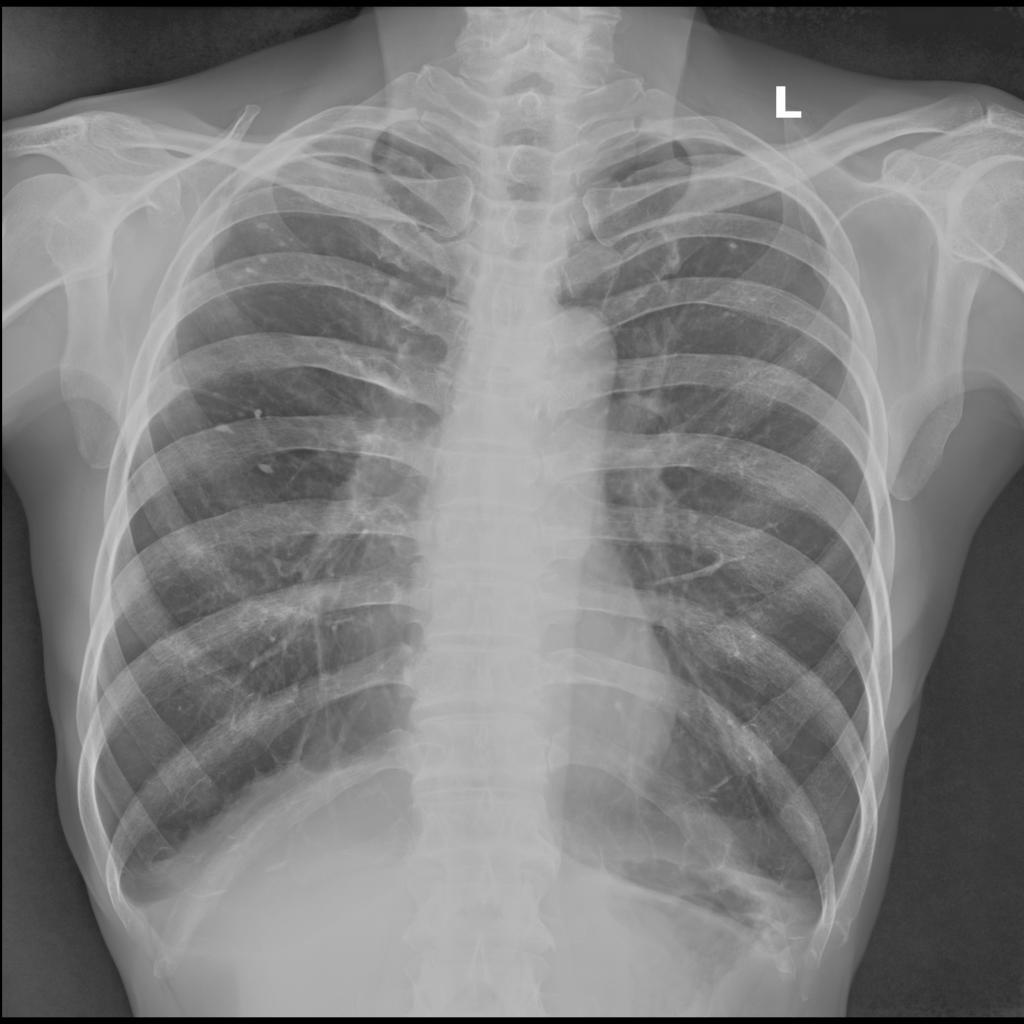Nodule: (256, 461, 277, 478), (213, 422, 238, 436), (279, 238, 299, 251), (252, 406, 269, 421), (256, 219, 273, 231), (246, 266, 259, 277), (259, 254, 270, 267)
